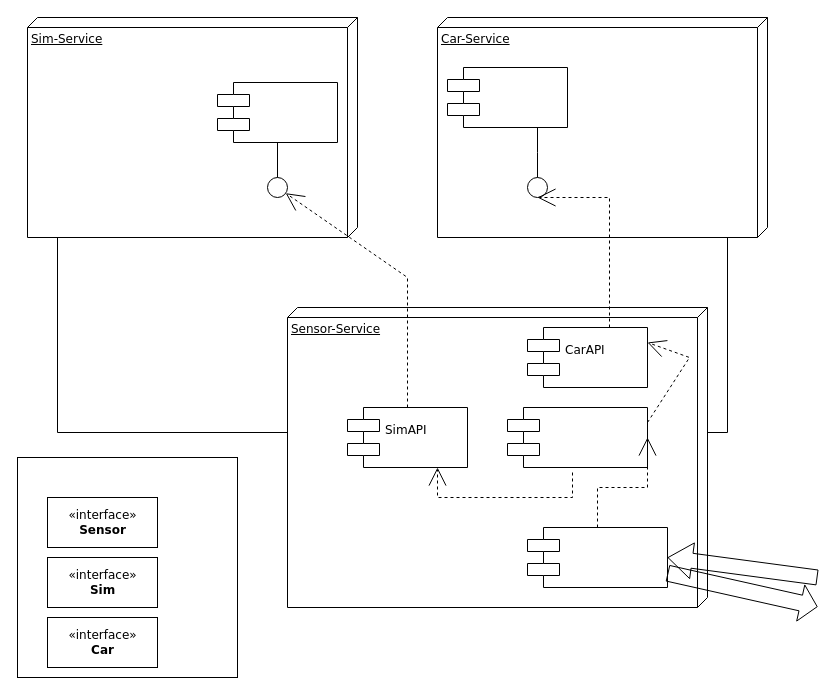
The diagram is 836 pixels wide and 695 high, and some of its shapes have lost their labels. The shapes that lost their labels are listed below. From the top down, each one's centre as x and y in pixels, then its label:
the point at 277,112: SimClient
the point at 507,97: CarClient
the point at 577,437: SensorService
the point at 597,557: SensorController
